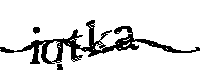a: (113, 24, 139, 53)
i: (30, 25, 41, 65)
k: (86, 19, 112, 57)
q: (41, 37, 65, 70)
t: (64, 27, 85, 62)
